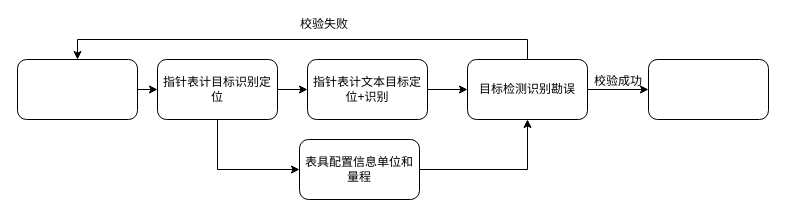
This 786x217 diagram has some shape labels left out. Here are the shapes that lost their labels. From the top down, the centre of each, then its label:
the point at 77,89: 待识别图片
the point at 708,89: 数值读取
